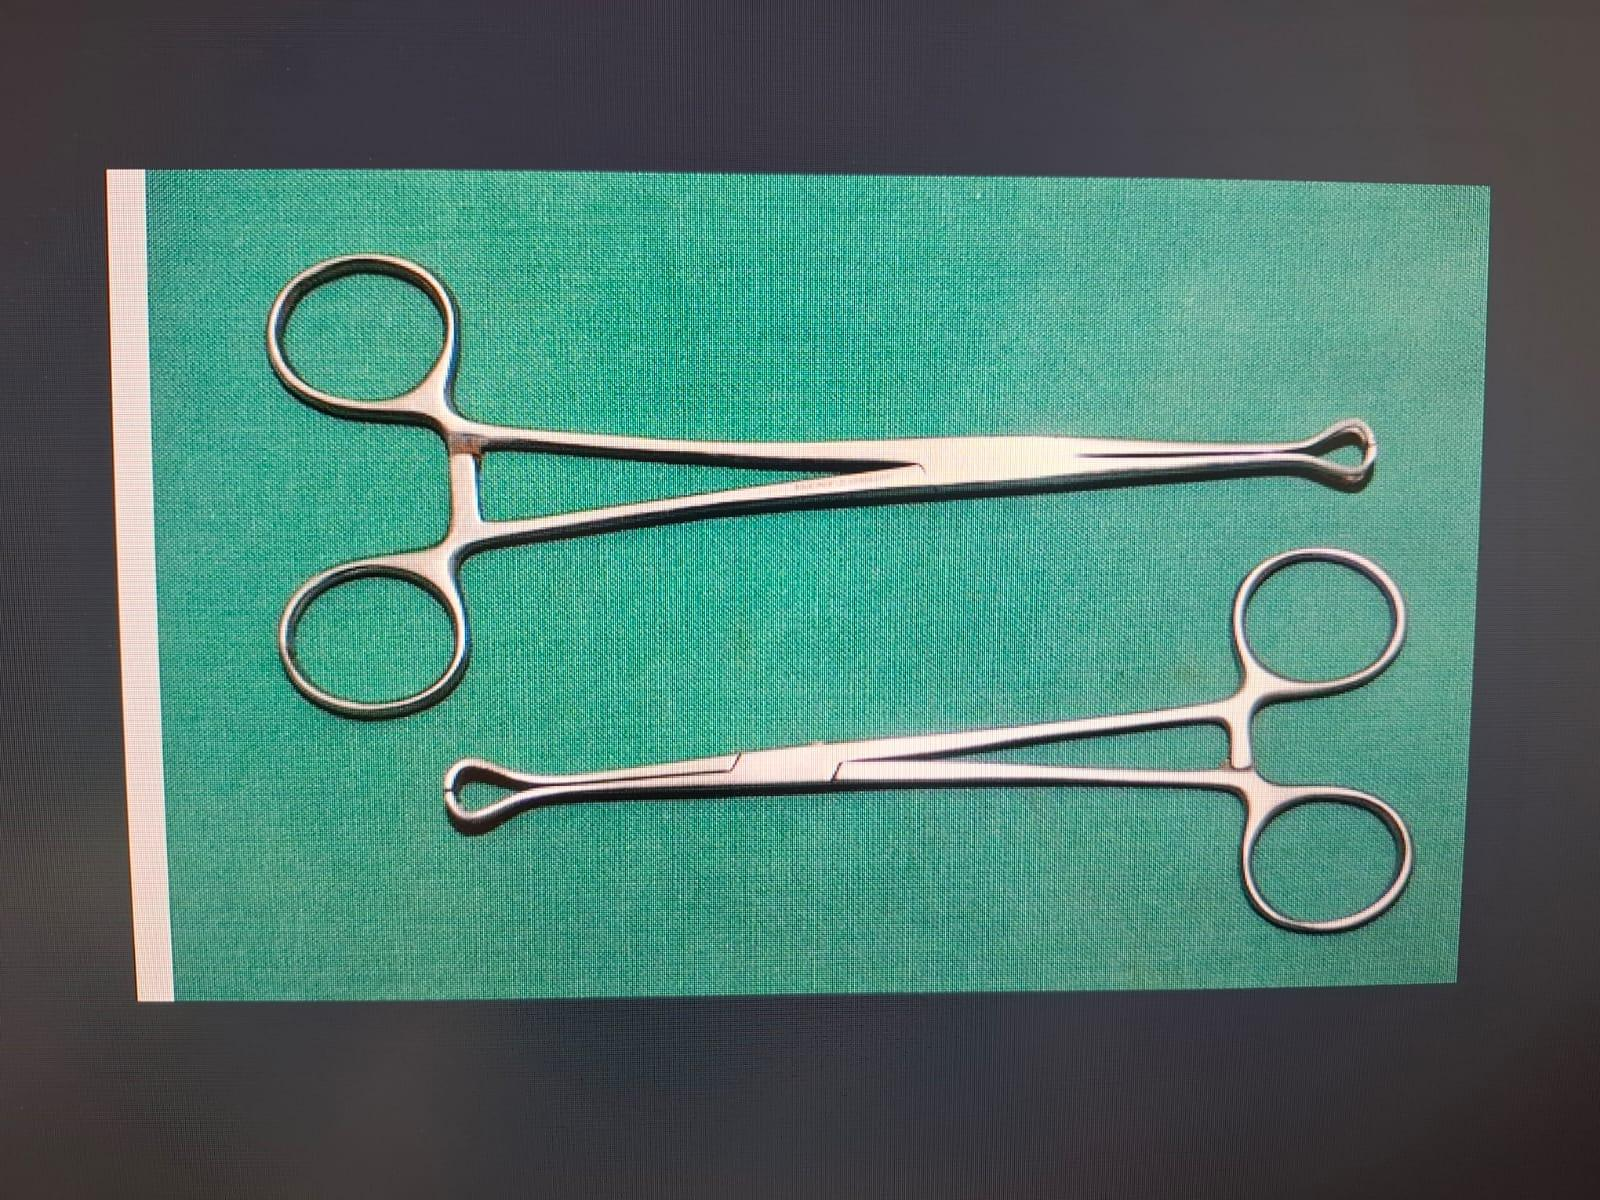Babcock Forceps: (246, 238, 1386, 734), (436, 538, 1420, 955)
